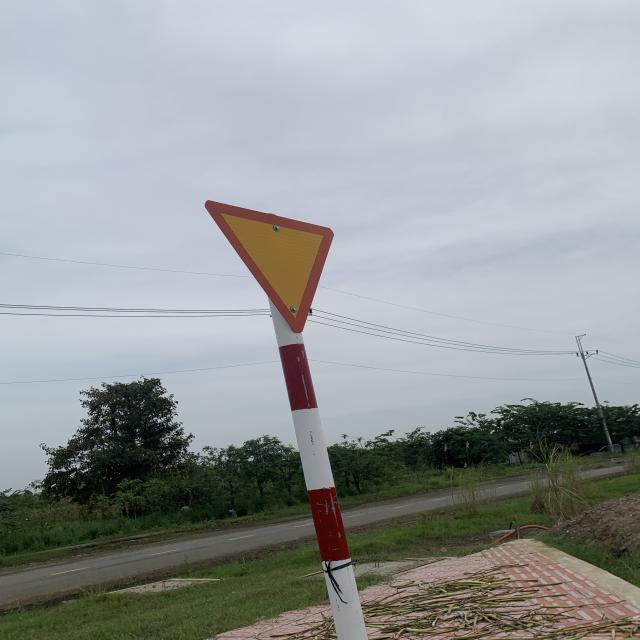Gioi_Han_Toc_Do_25: (205, 198, 336, 332)
